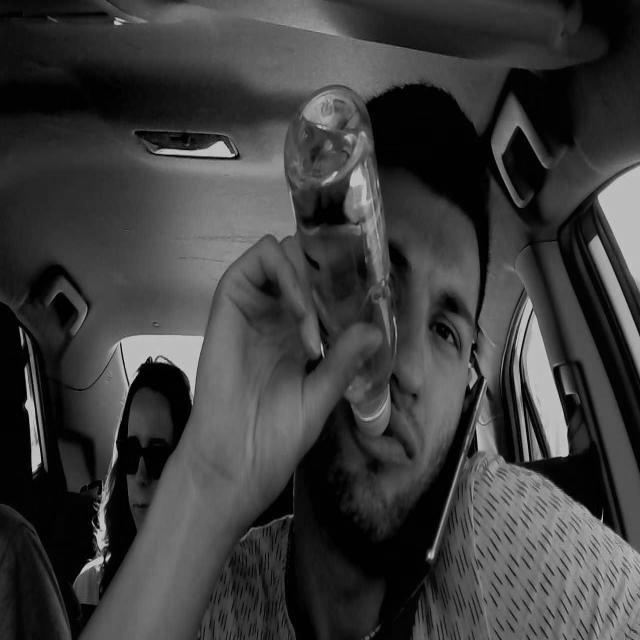Drinking: (284, 76, 403, 475)
Phone: (422, 371, 491, 563)
